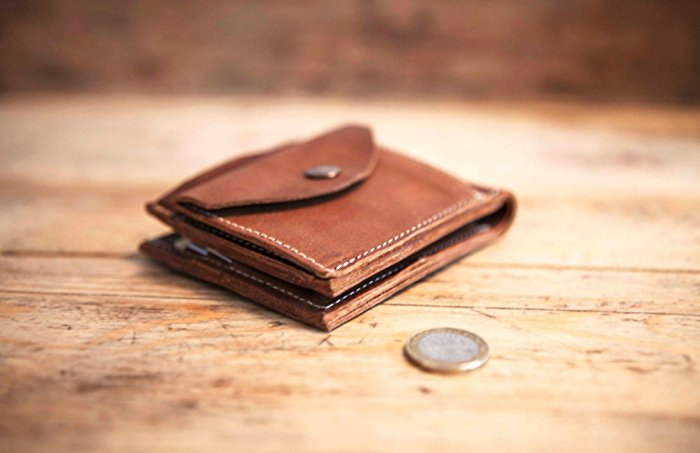monedero: (139, 123, 520, 334)
